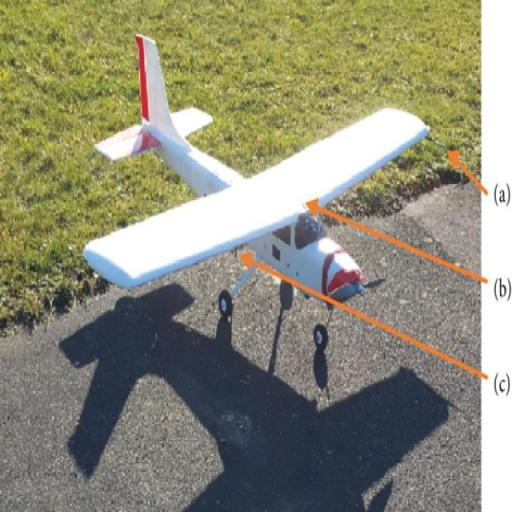uav: (80, 31, 432, 350)
